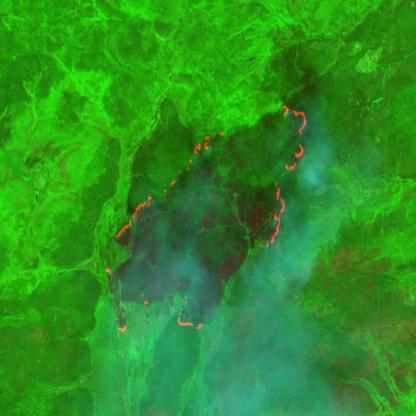fire: (104, 102, 308, 338)
